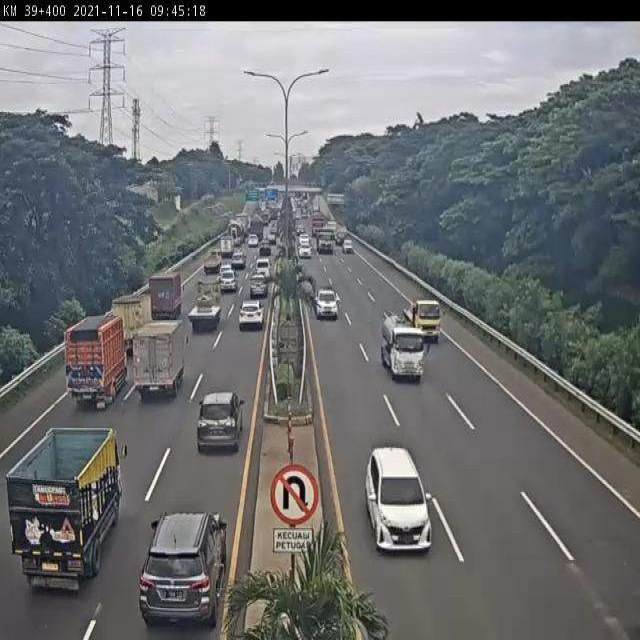car: (140, 508, 227, 624), (364, 448, 432, 551), (196, 392, 243, 451), (315, 285, 339, 320), (238, 303, 263, 329), (248, 277, 268, 303), (229, 248, 248, 271), (218, 273, 235, 295)
small bus: (254, 259, 273, 280)
small truck: (10, 427, 119, 590), (133, 321, 187, 399), (381, 316, 425, 380), (108, 295, 150, 349), (404, 293, 442, 344), (202, 250, 222, 274)
truck-m-: (62, 316, 124, 409), (183, 285, 221, 335), (150, 269, 182, 323)
